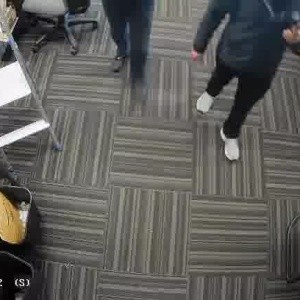person: (197, 0, 300, 151), (100, 0, 153, 81)
